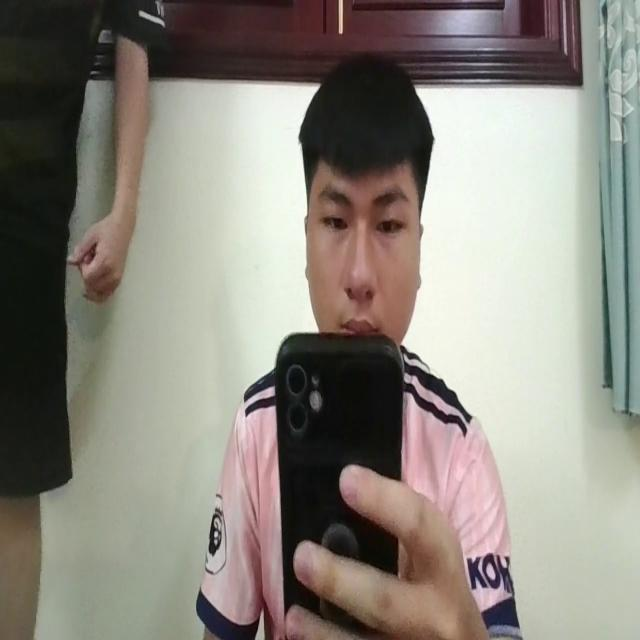extra_person: (1, 0, 167, 640)
phone: (274, 312, 406, 640)
student: (201, 41, 518, 640)
